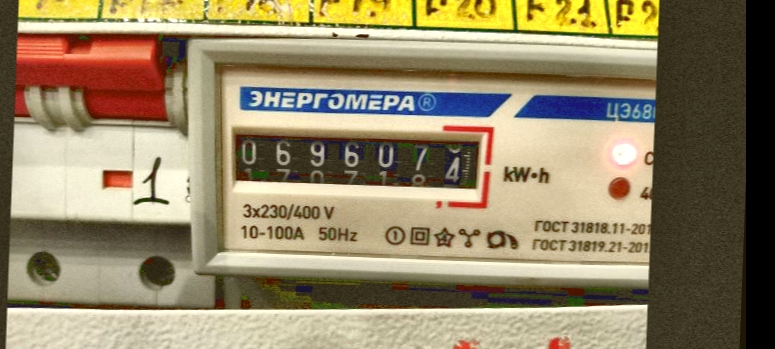0: (237, 134, 257, 164), (373, 138, 393, 166)
4: (440, 153, 459, 182)
6: (340, 137, 359, 166), (271, 136, 290, 164)
7: (408, 140, 428, 170)
9: (305, 138, 324, 166)
screen: (214, 110, 496, 208)
